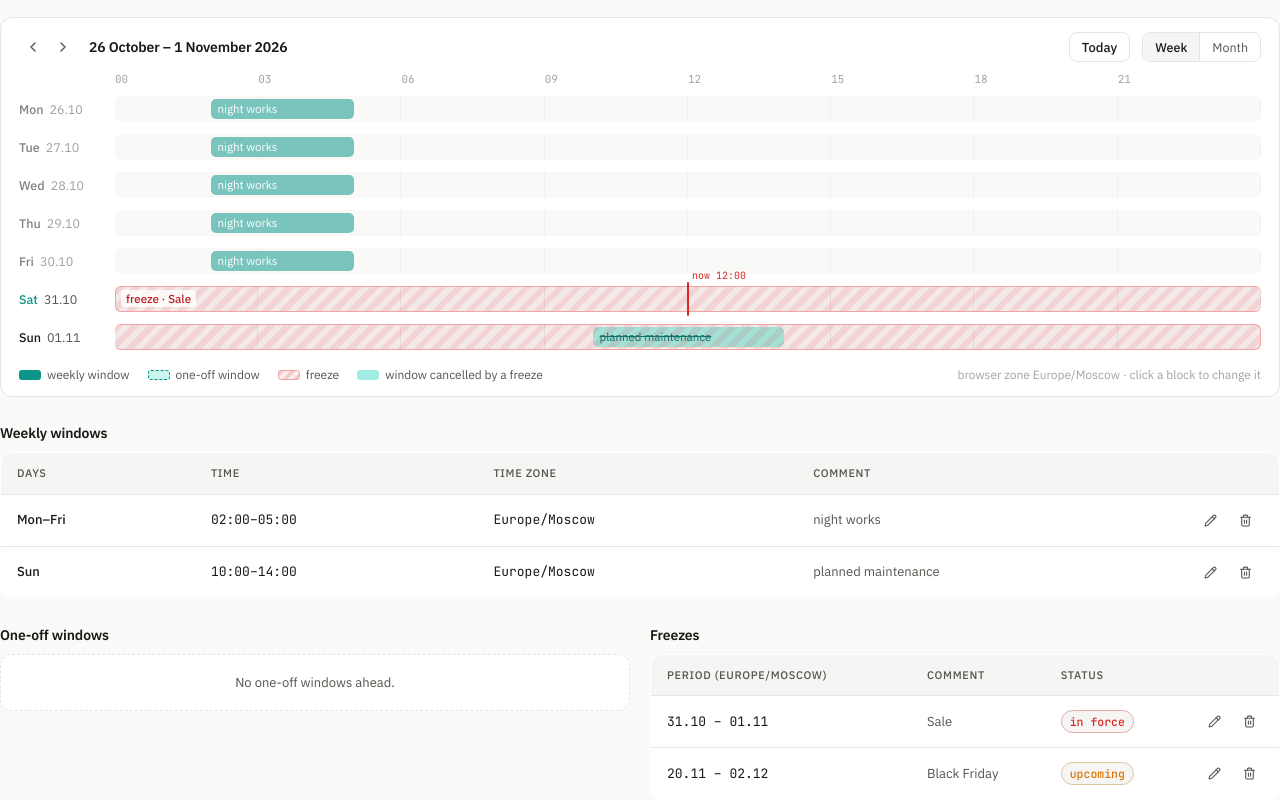
Test case: MaintenanceTab › [GUARD] no comment on the tab is wrapped in quotes
(page scrolled)
Expected: the row with test id "freeze-row-f-bf" is shown, x1=650 y1=748 x2=1279 y2=799
Click the button with test id "freeze-delete-f-sale". click: (1250, 722)
box: x1=1232 y1=708 x2=1267 y2=735
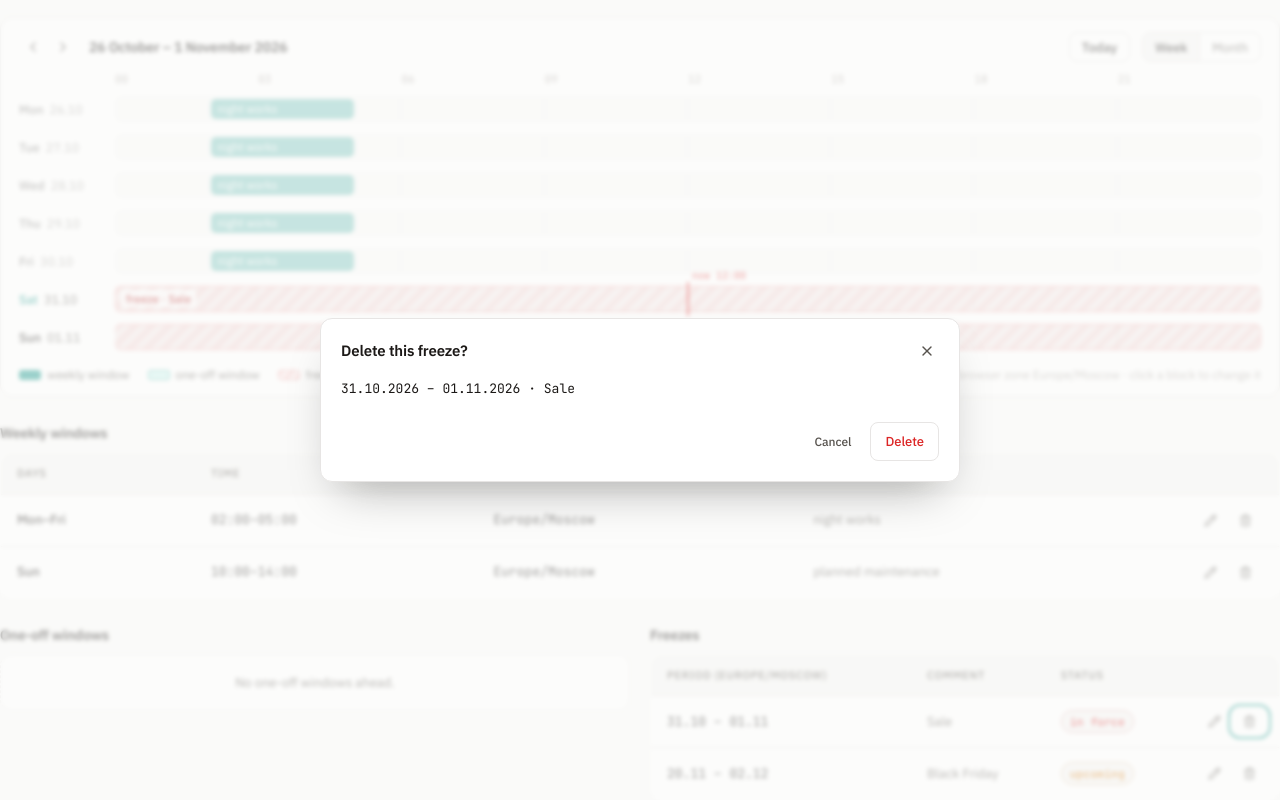
Expected: the text "night works" is shown, x1=210 y1=99 x2=354 y2=119
Now the text "31.10.2026 – 01.11.2026 · Sale" is shown, box x1=341 y1=380 x2=575 y2=397
